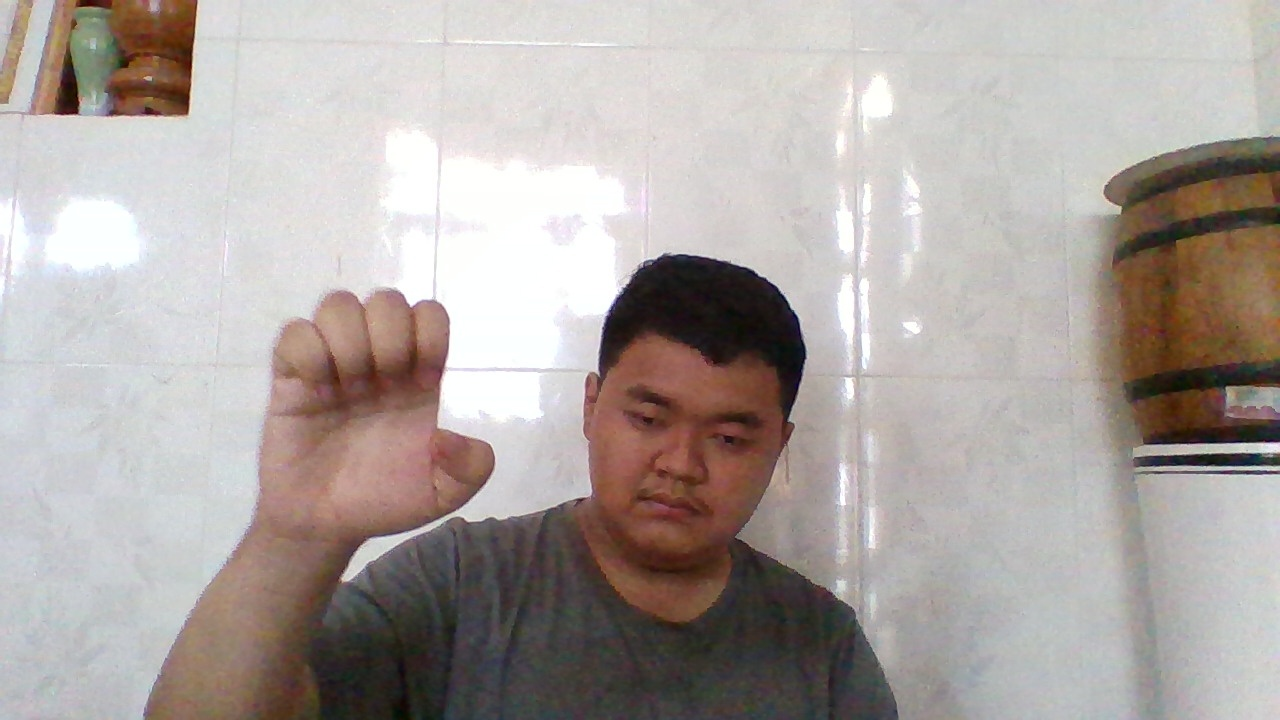E: (277, 282, 502, 547)
